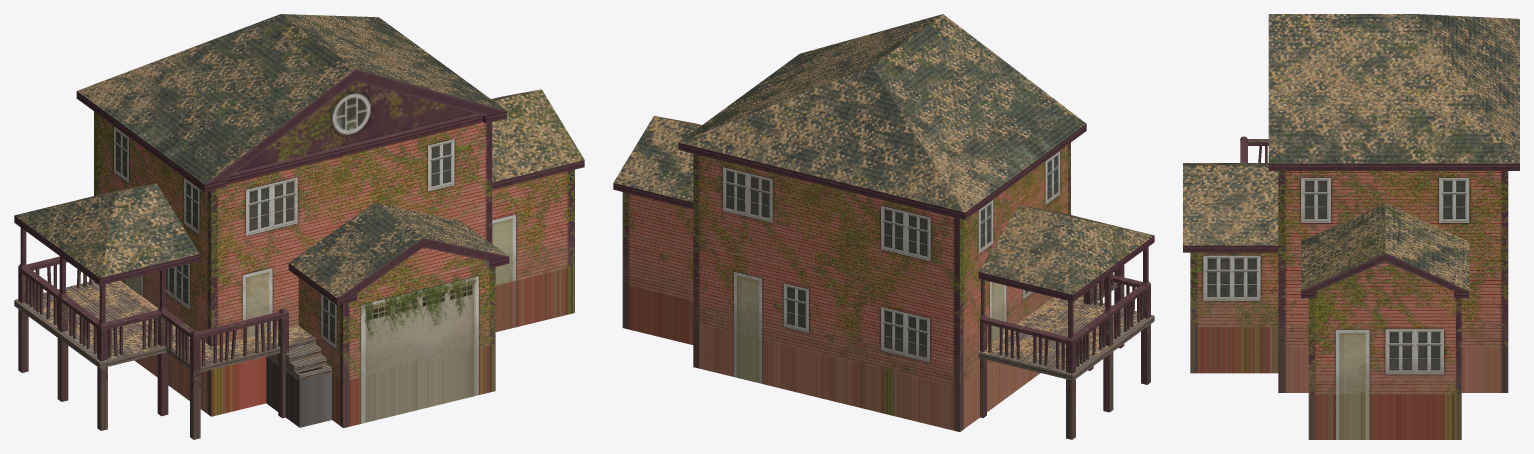
The model's file is House 3 - Separated.fbx.
3 renders of one model, left to right at view 1: azimuth 30°, elevation 25°; view 2: azimuth 150°, elevation 25°; view 3: azimuth 270°, elevation 25°, orthographic. The views are drawn at different scales.
Parts seen in each view (by area): view 1: House 3, Door_Garage, Door_Front_Left, Door_Front_Right; view 2: House 3, Door_Back, Door_Side_Left; view 3: House 3, Door_Right.
Boxes of the visible parts, <box> form: House 3: <box>14,14,584,439</box>; Door_Garage: <box>365,281,474,376</box>; Door_Front_Left: <box>246,272,269,338</box>; Door_Front_Right: <box>492,219,512,285</box>; House 3: <box>613,14,1154,439</box>; Door_Back: <box>737,275,759,338</box>; Door_Side_Left: <box>991,282,1004,342</box>; House 3: <box>1183,14,1519,439</box>; Door_Right: <box>1339,333,1365,394</box>.
Bounding box in the file's own units: 6.34 × 3.97 × 3.89.
